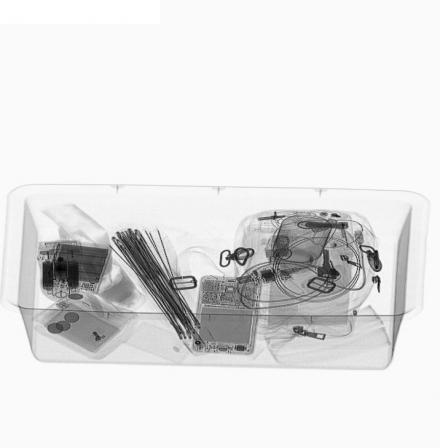Powerbank: (41, 240, 115, 295)
